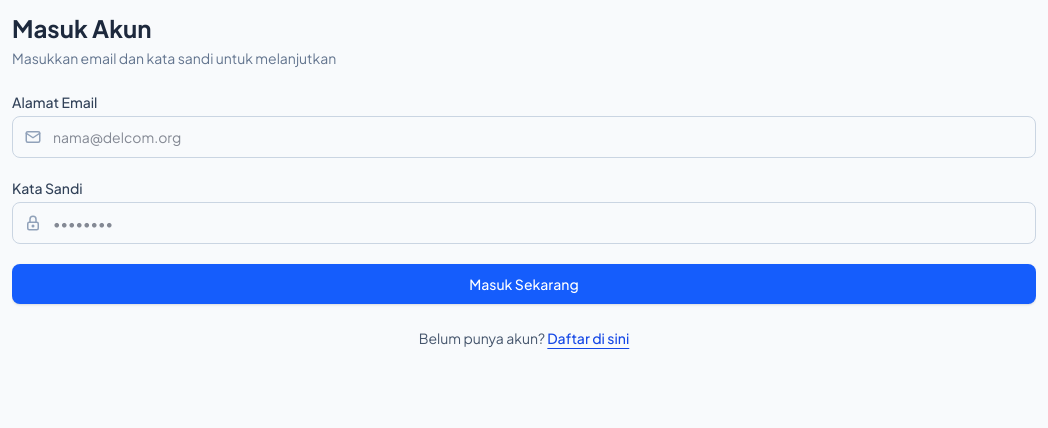
Scenario: LoginPage › should validate empty password
Type "test@delcom.org" into the field with id "login-email-input" at (524, 137), box [12,116,1036,158]
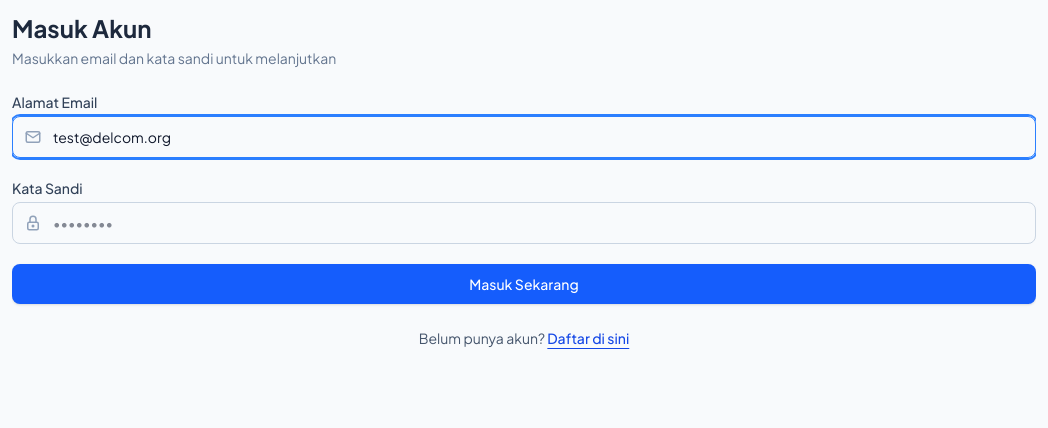
Click the button with id "login-submit-button" at (524, 284), box [12,264,1036,304]
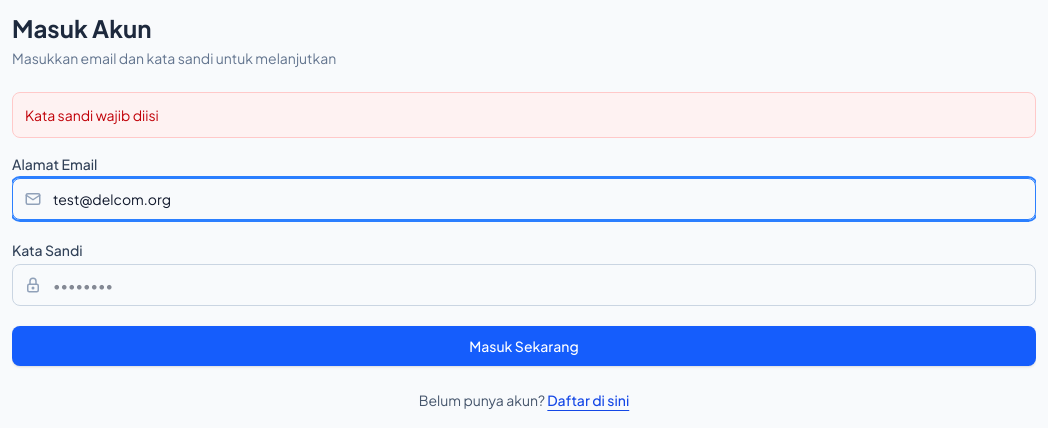
Now the message reads "Kata sandi wajib diisi", box [25,106,159,124]
